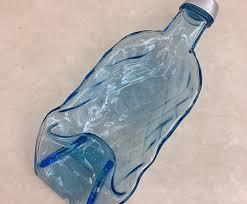plastic: (0, 8, 220, 204)
